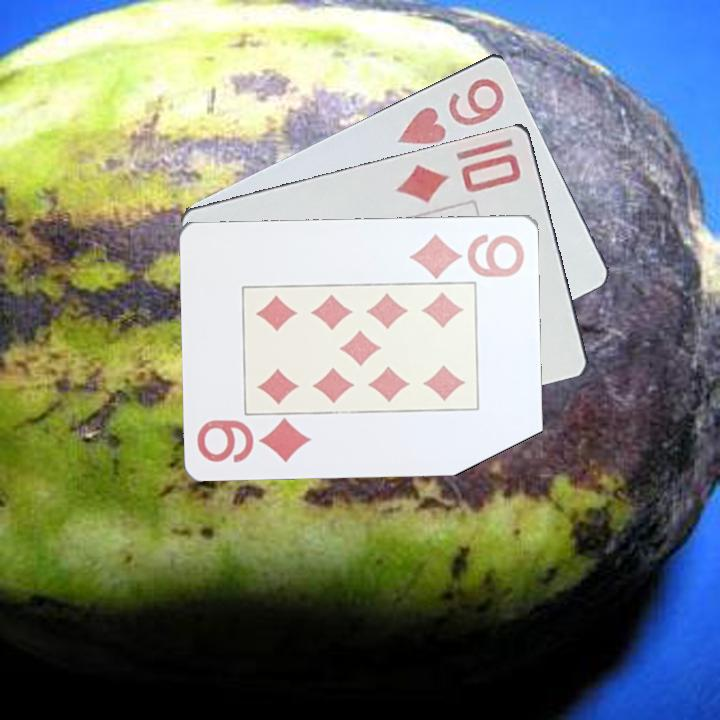9d: (194, 415, 315, 466), (407, 229, 528, 279)
9h: (390, 73, 508, 147)
Td: (392, 149, 524, 206)
